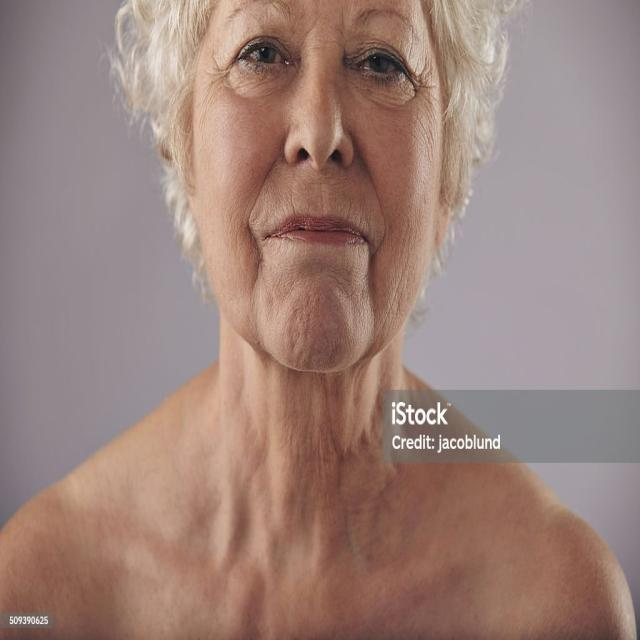dry: (210, 186, 298, 338), (302, 284, 383, 382), (376, 210, 436, 342)
